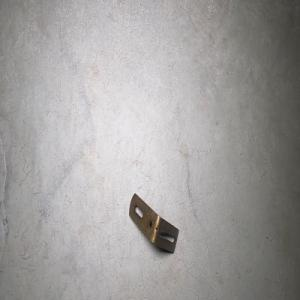MetalPart: (128, 192, 179, 254)
